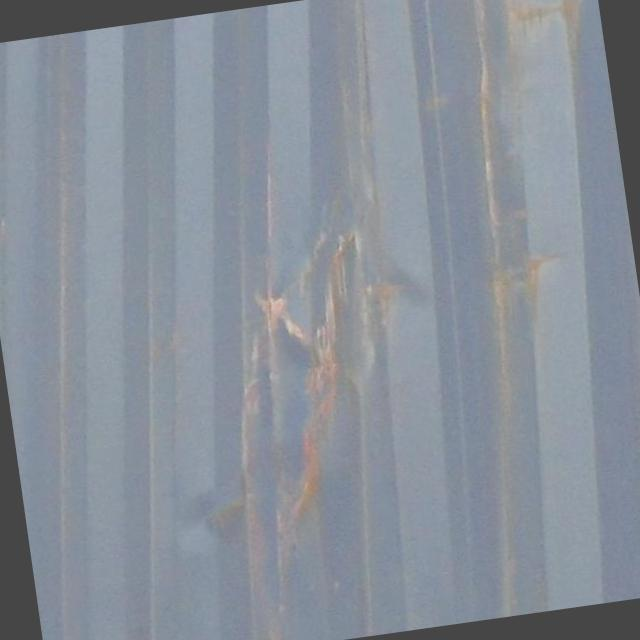rust: (125, 192, 419, 575)
